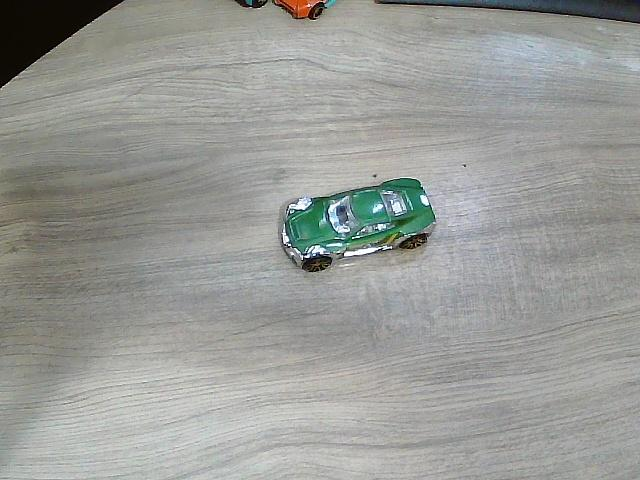Carro: (280, 178, 437, 273)
